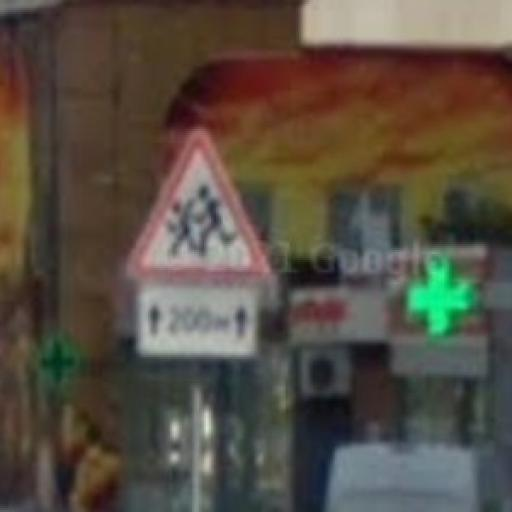traffic_sign: (124, 122, 279, 287)
